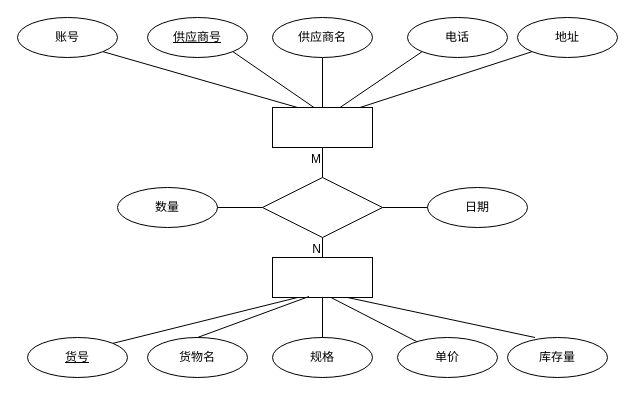
The diagram is 635 pixels wide and 395 high, and some of its shapes have lost their labels. The shapes that lost their labels are listed below. From the top down, each one's centre as x and y in pixels, then its label:
At point 322,127: "供应商".
At point 322,207: "供应".
At point 322,277: "货物".
